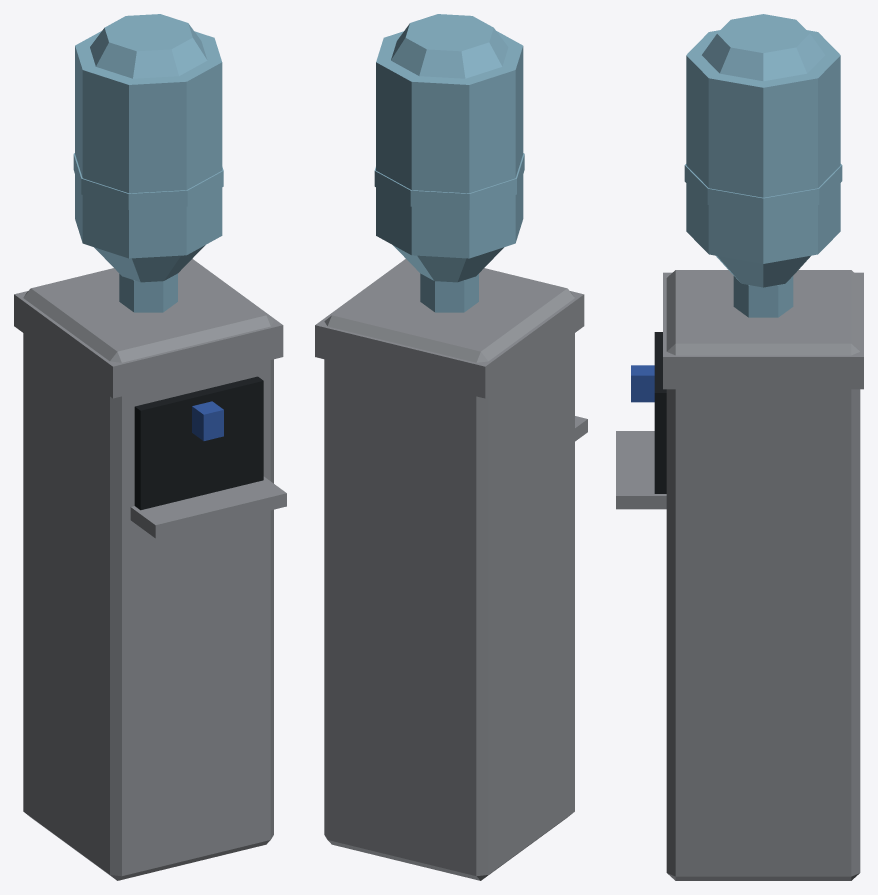
File: water-cooler-04.glb
3 views of the same model, side by side, from view 1: azimuth 30°, elevation 25°; view 2: azimuth 150°, elevation 25°; view 3: azimuth 270°, elevation 25° (orthographic).
Parts seen in each view (by area): view 1: water_cooler_04; view 2: water_cooler_04; view 3: water_cooler_04.
Boxes of the visible parts, bbox=[...] form: water_cooler_04: bbox=[14, 14, 286, 880]; water_cooler_04: bbox=[315, 14, 587, 880]; water_cooler_04: bbox=[616, 14, 863, 880].
Size of the model in its own units: 0.3356 by 1.5 by 0.4167.
